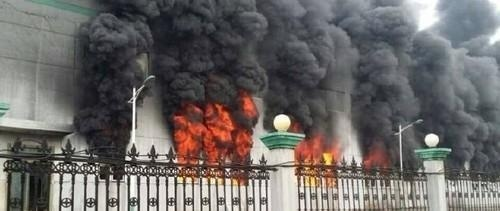fire: (171, 94, 257, 183), (292, 124, 340, 187), (362, 146, 391, 170)
